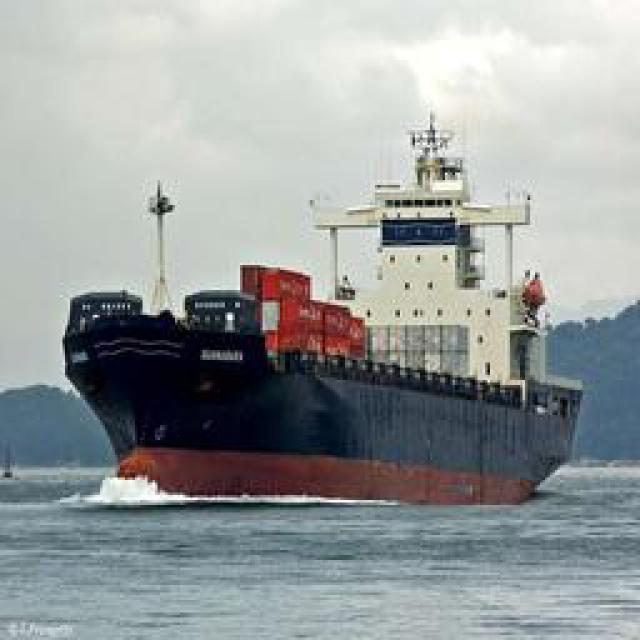Ship: (76, 96, 569, 504)
